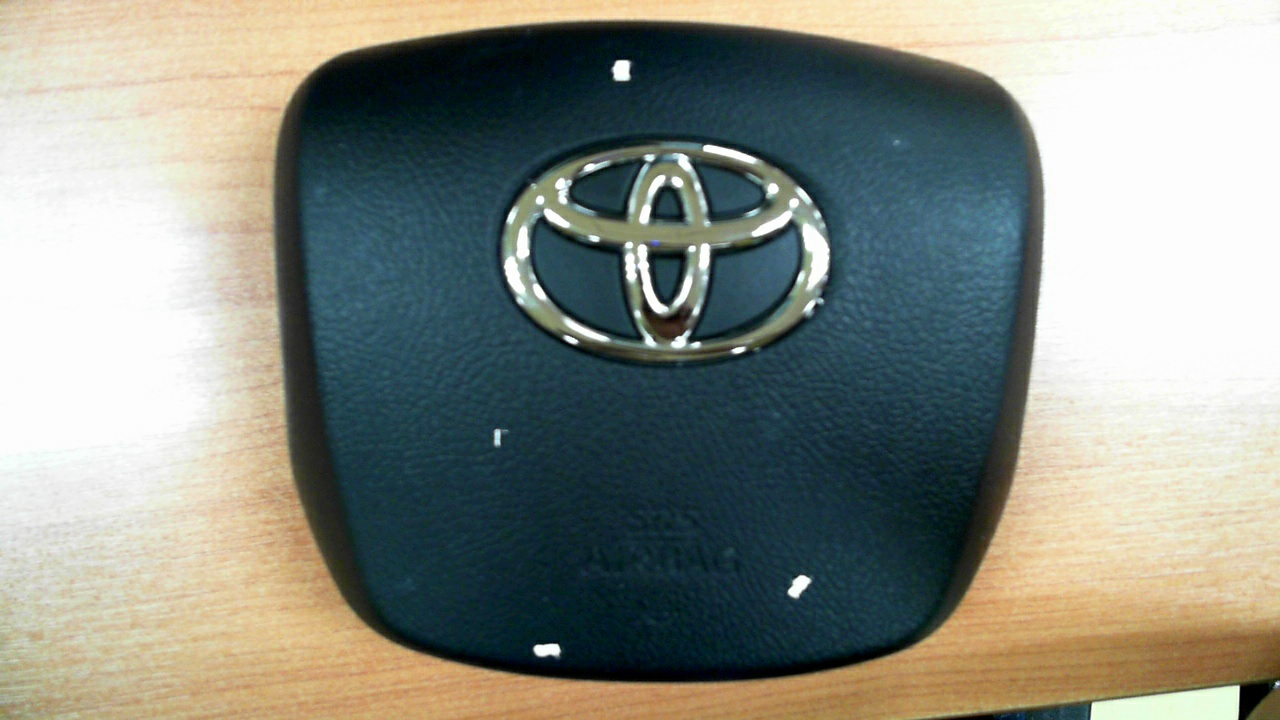Airbag: (277, 21, 1044, 679)
Mark: (787, 574, 812, 599), (533, 643, 562, 657), (612, 60, 631, 81), (493, 428, 509, 449), (893, 140, 900, 145)
